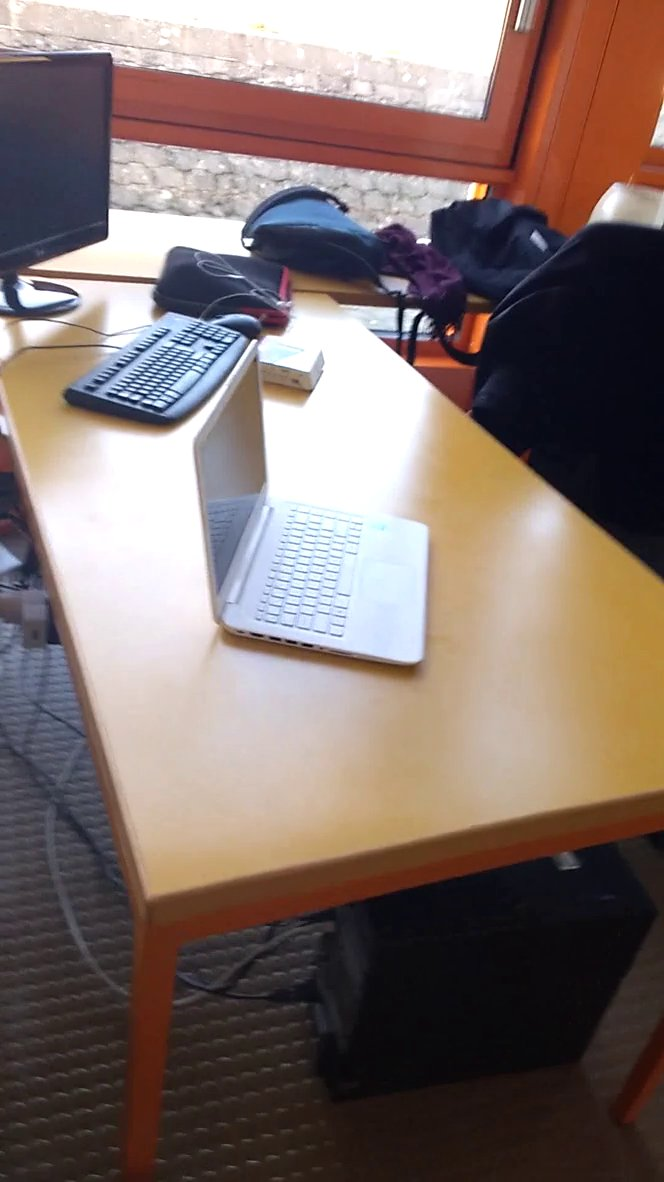bag: (425, 181, 593, 322), (241, 178, 404, 301)
laptop: (177, 330, 447, 681)
